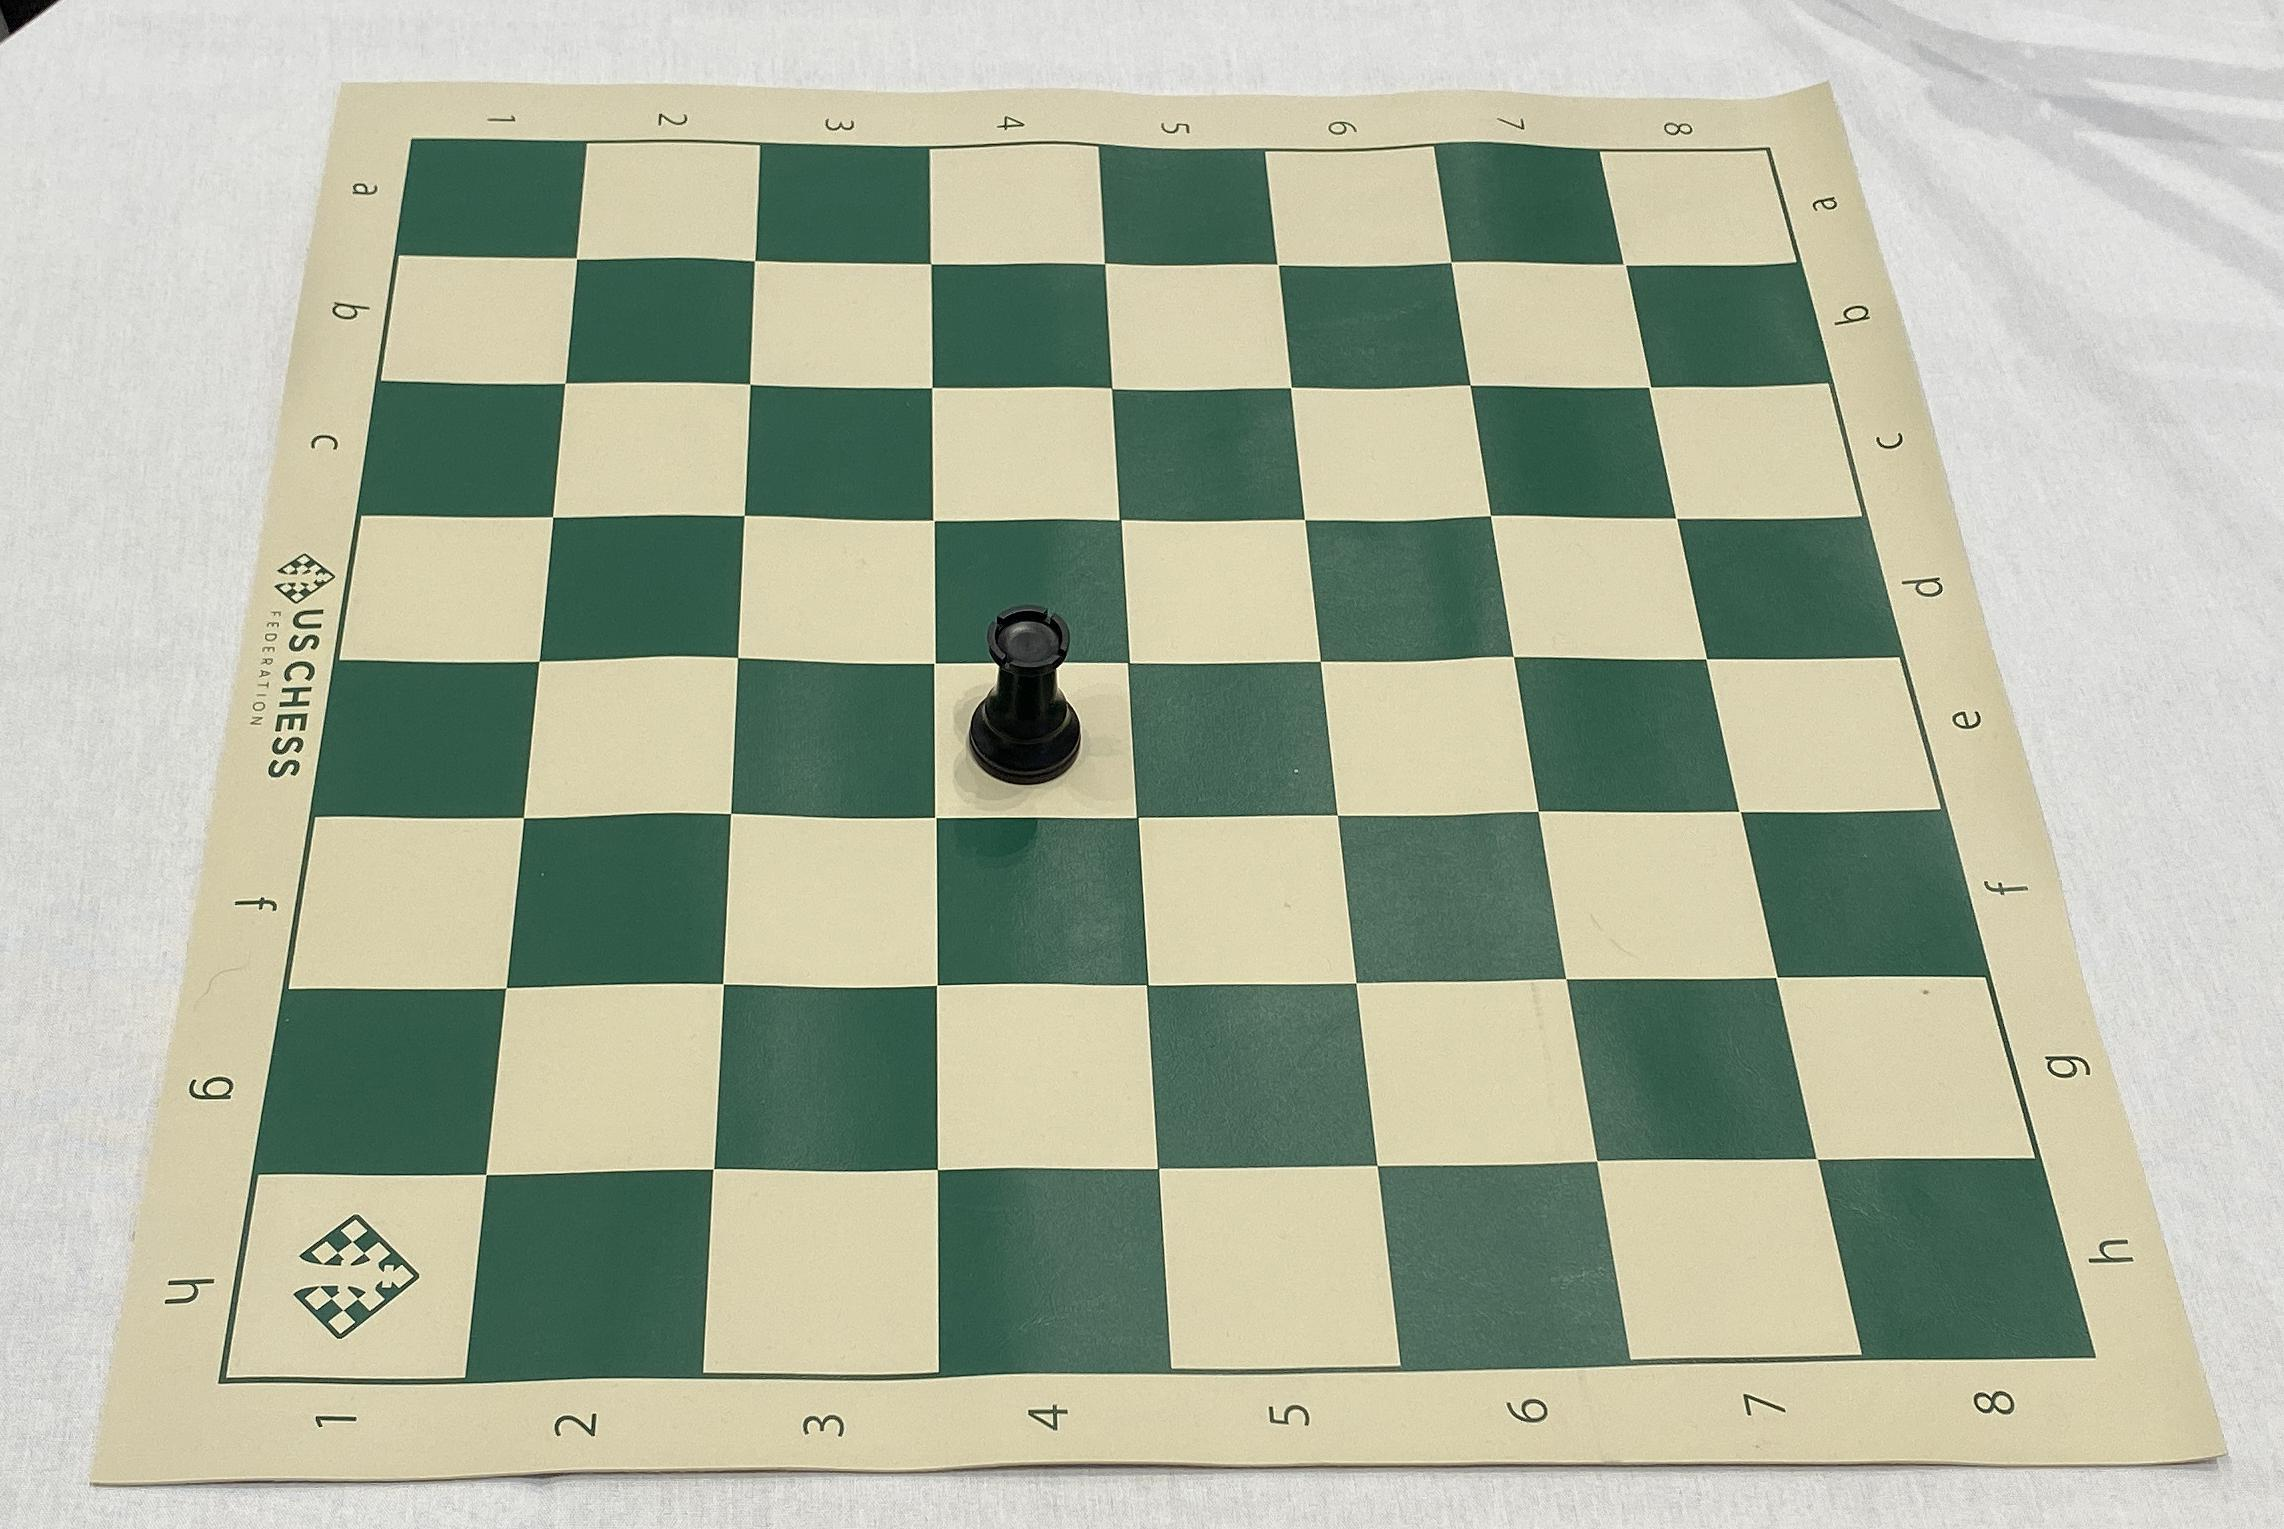black-rook: (964, 604, 1085, 792)
